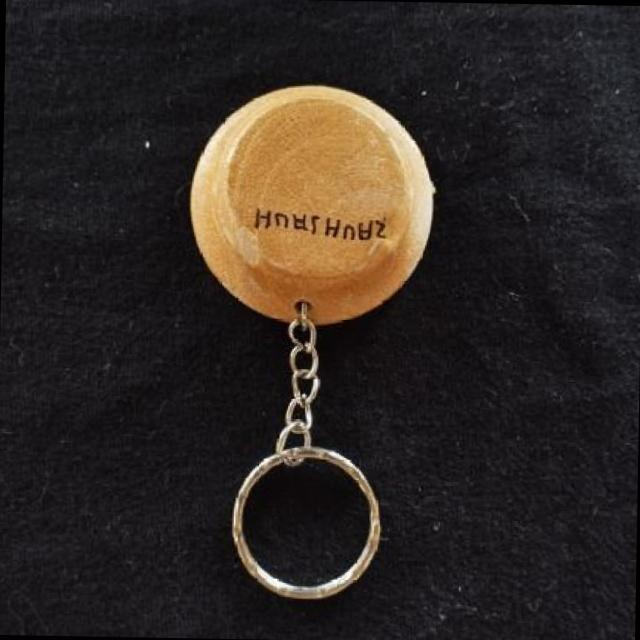Llavero: (185, 82, 437, 330)
